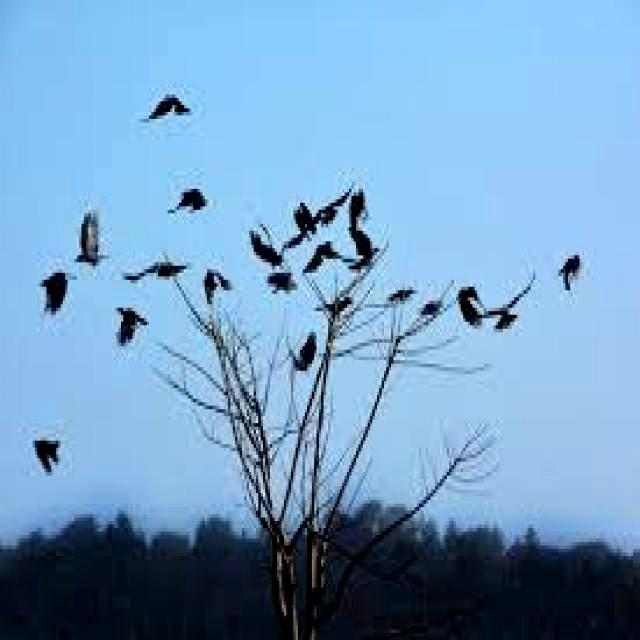bird: (266, 184, 363, 254), (135, 61, 200, 135), (24, 414, 80, 481), (550, 238, 586, 340), (77, 198, 121, 278), (449, 254, 486, 348), (164, 166, 220, 226), (240, 222, 300, 278), (285, 322, 334, 388), (42, 257, 88, 327), (122, 248, 192, 290), (492, 294, 530, 368), (299, 230, 349, 282), (194, 248, 234, 310), (107, 288, 151, 344), (343, 226, 392, 274), (264, 269, 306, 305), (314, 288, 364, 318), (345, 185, 375, 231), (412, 290, 447, 329), (386, 274, 422, 310)
